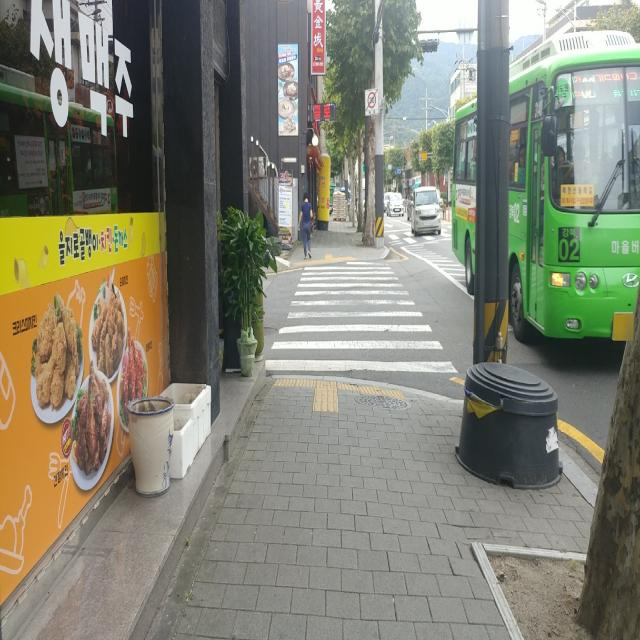횡단보도: (265, 261, 460, 376)
